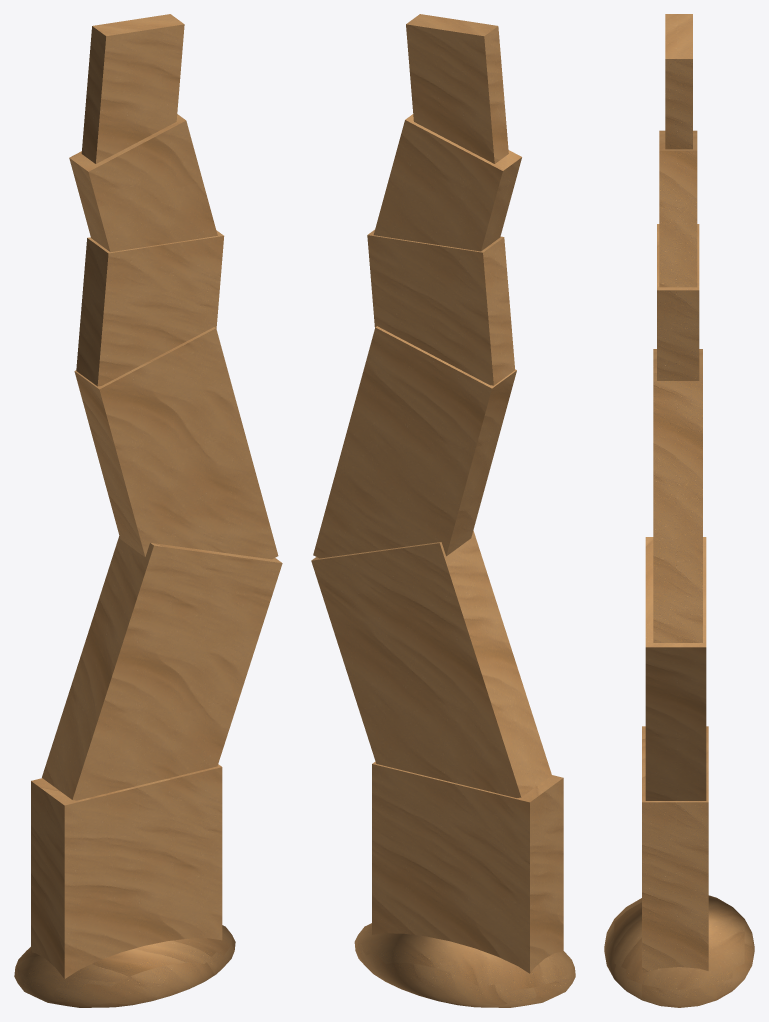
Rendered from L3_Alga1.obj.
3 renders of one model, left to right at view 1: azimuth 30°, elevation 25°; view 2: azimuth 150°, elevation 25°; view 3: azimuth 270°, elevation 25°, orthographic.
Parts seen in each view (by area): view 1: block, sphere; view 2: block, sphere; view 3: block, sphere.
Part boxes in pixels (box(x1,y1,x2,y2)): block: box(31, 14, 282, 979); sphere: box(14, 925, 235, 1007); block: box(311, 14, 563, 973); sphere: box(354, 923, 575, 1007); block: box(642, 14, 708, 973); sphere: box(604, 895, 754, 1007).
Size of the model in its own units: 0.9863 by 3.72 by 0.5322.
Materials: 1 (1 with a texture image).
